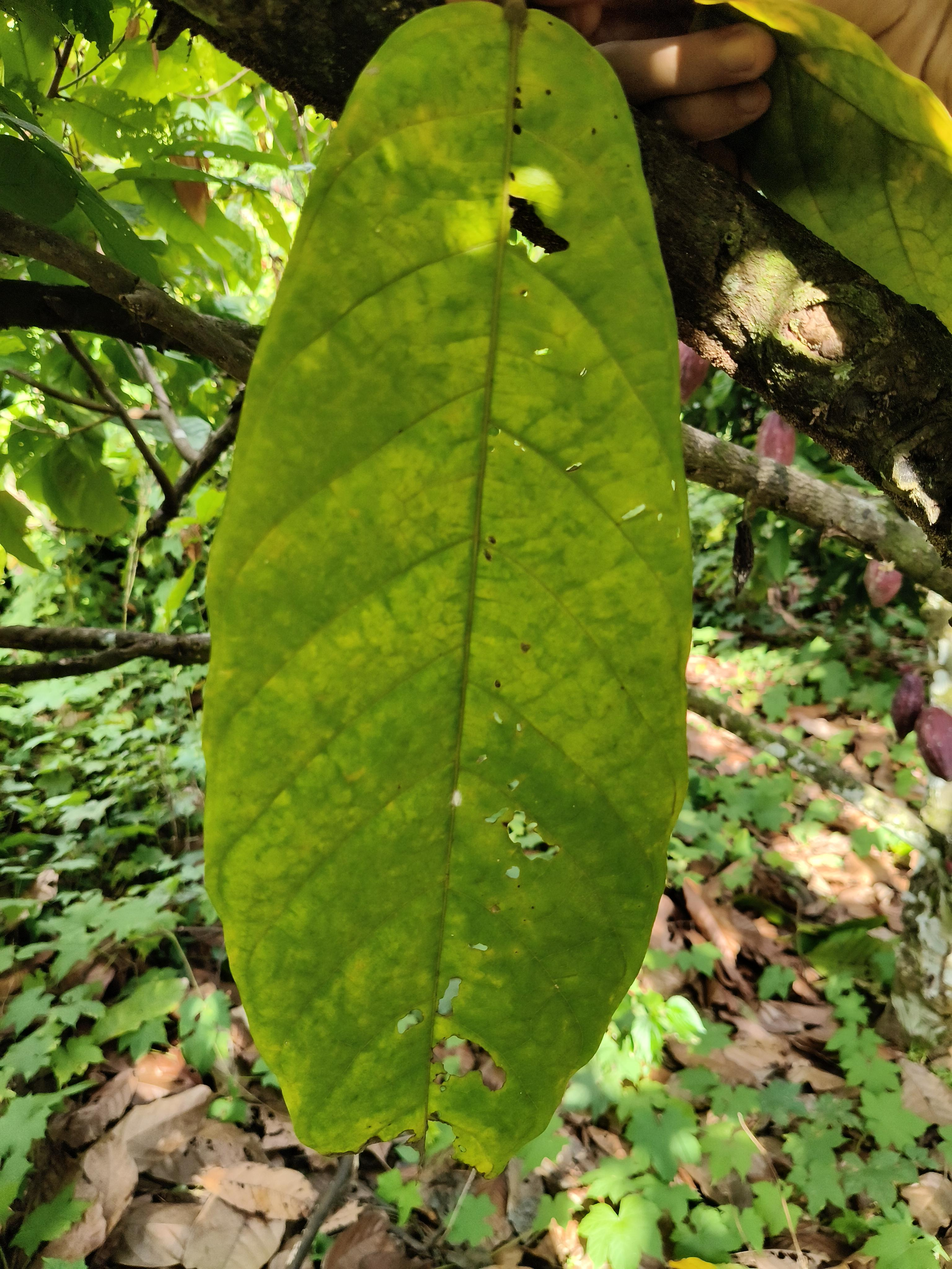deficiencia_potasio: (196, 0, 709, 1188)
